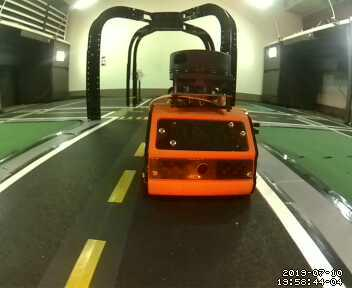pheeno: (143, 48, 259, 201)
